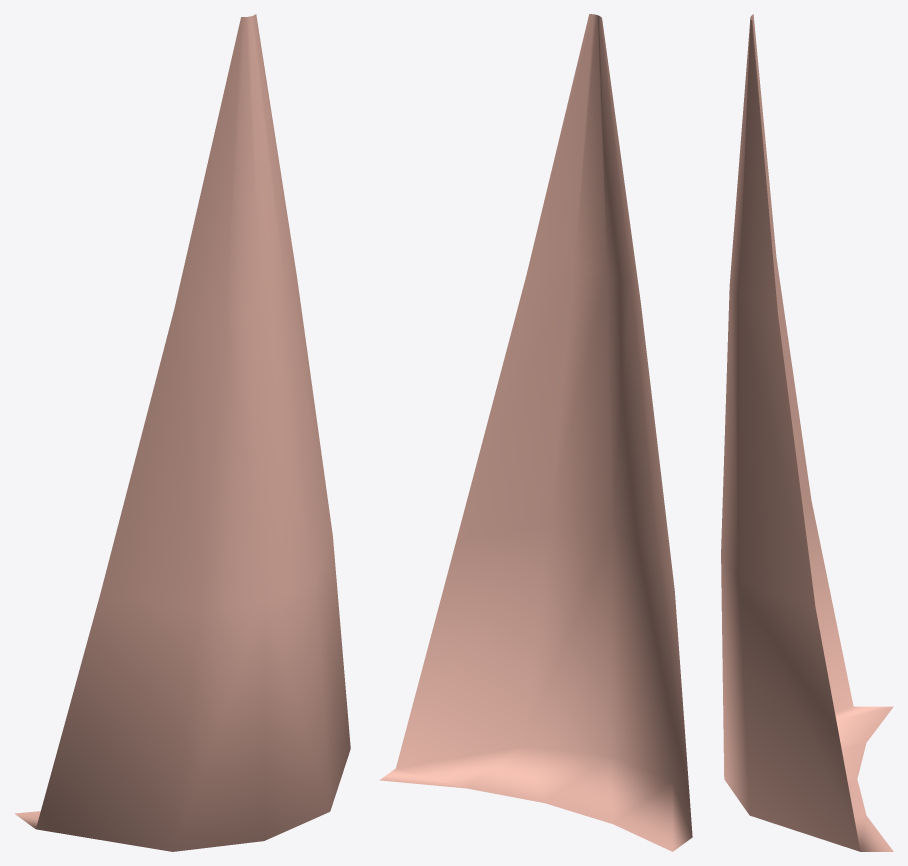
The model's file is Nose B 3.glb.
The picture shows the model from 3 angles, left to right: view 1: azimuth 30°, elevation 25°; view 2: azimuth 150°, elevation 25°; view 3: azimuth 270°, elevation 25°; orthographic projection. The views are drawn at different scales.
Parts seen in each view (by area): view 1: nose_b_3; view 2: nose_b_3; view 3: nose_b_3.
Part boxes in pixels (x1,y1,x2,y2): nose_b_3: [14, 14, 350, 851]; nose_b_3: [380, 14, 692, 851]; nose_b_3: [721, 14, 893, 851].
Size of the model in its own units: 0.000548 by 0.00134 by 0.000275.
